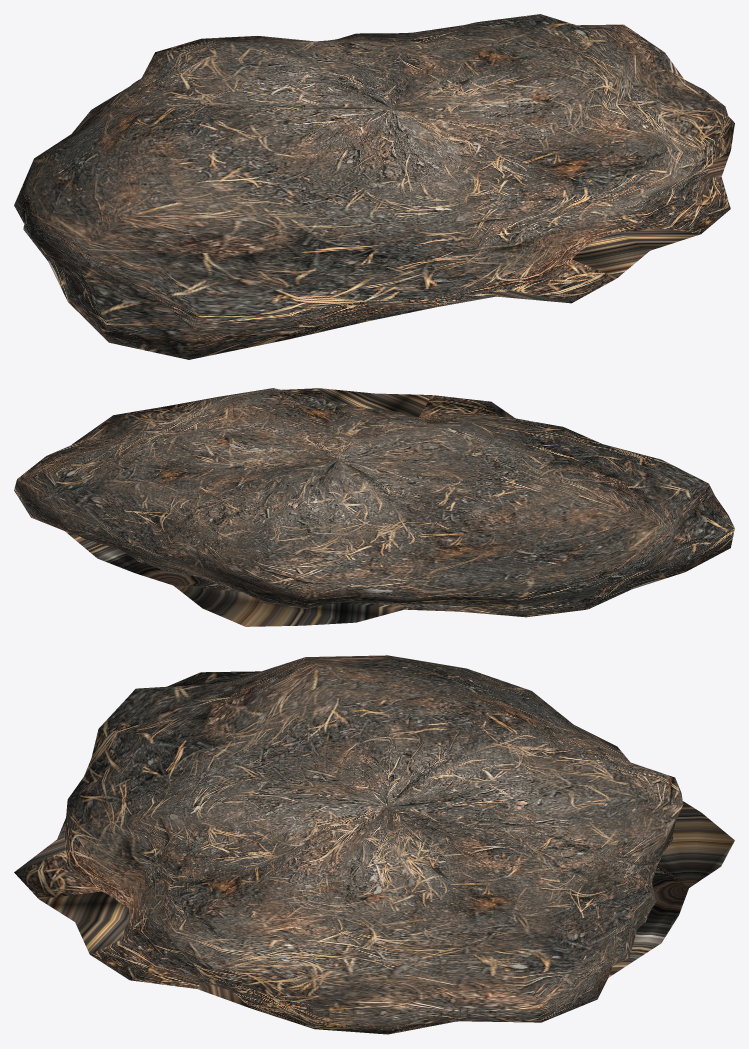
Rendered from CampFireAsh.fbx.
The picture shows the model from 3 angles, top to bottom: view 1: azimuth 30°, elevation 25°; view 2: azimuth 150°, elevation 25°; view 3: azimuth 270°, elevation 25°; orthographic projection. The views are drawn at different scales.
Visible parts, largest first — view 1: Sphere; view 2: Sphere; view 3: Sphere.
Boxes of the visible parts, <box> form: Sphere: <box>14,14,734,359</box>; Sphere: <box>14,388,734,626</box>; Sphere: <box>14,655,734,1034</box>.
Bounding box in the file's own units: 1.97 × 0.2221 × 1.7.
